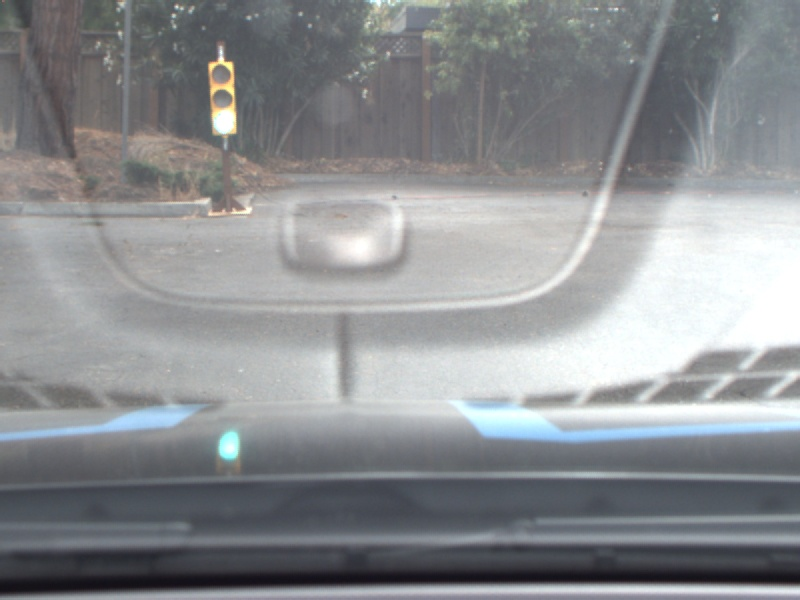green: (204, 59, 242, 139)
